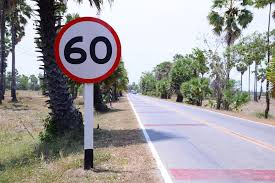Speed_limit_60km: (55, 17, 121, 82)
